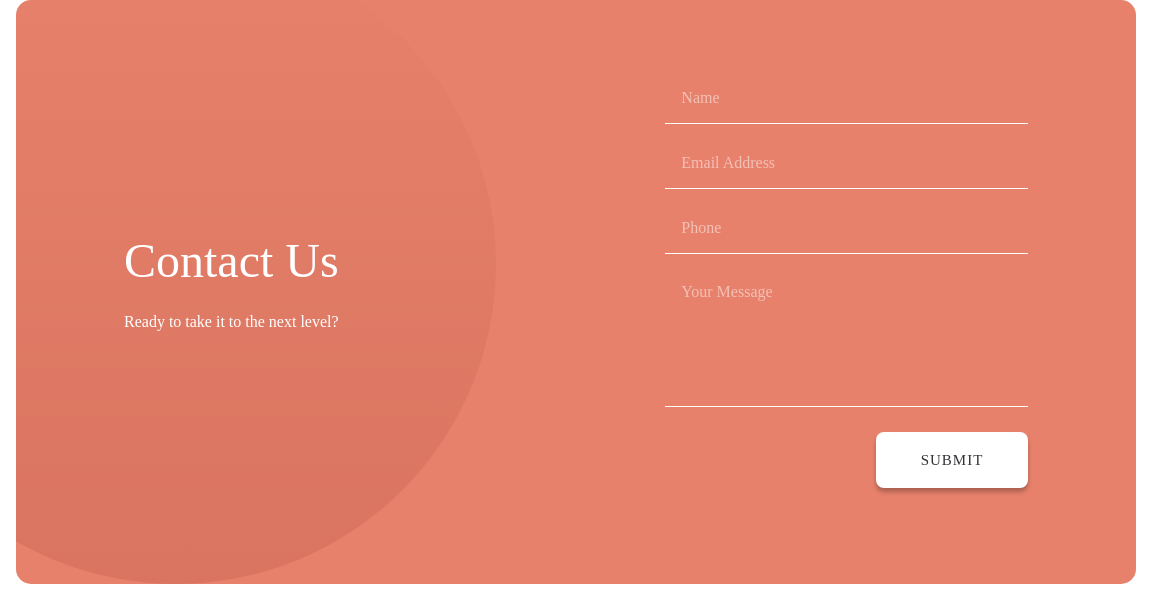
Scenario: ContactForm › ties each error to its field and moves focus to the first one
In the field labelled "Name": coordinates (847, 104) [665,84,1028,124], type "Ada Lovelace"
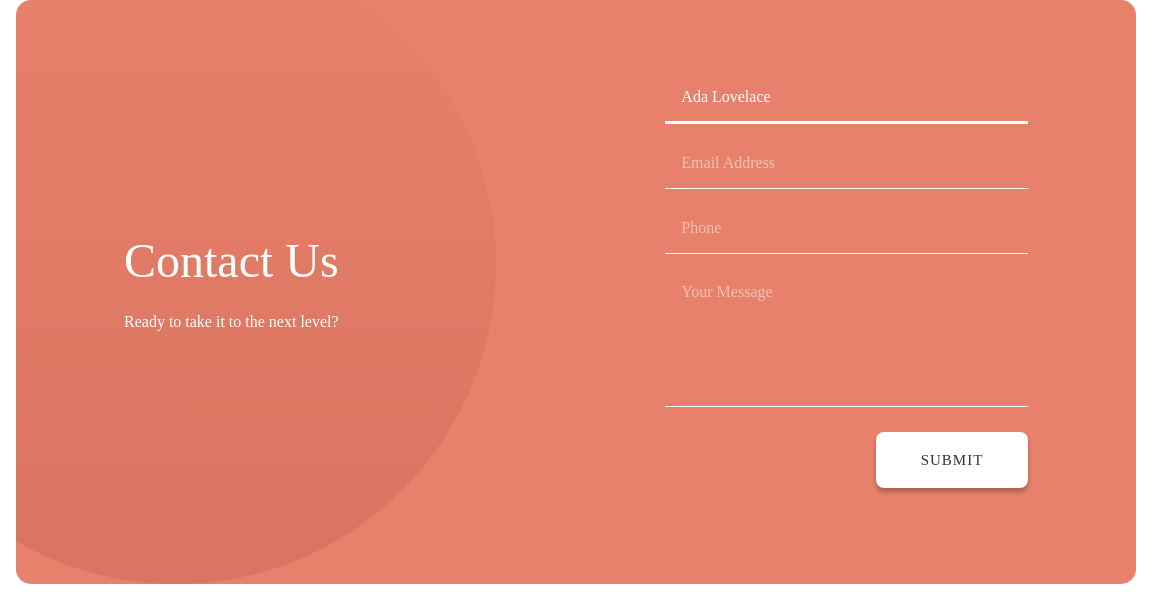
In the field labelled "Email Address": coordinates (847, 169) [665,149,1028,189], type "ada@"
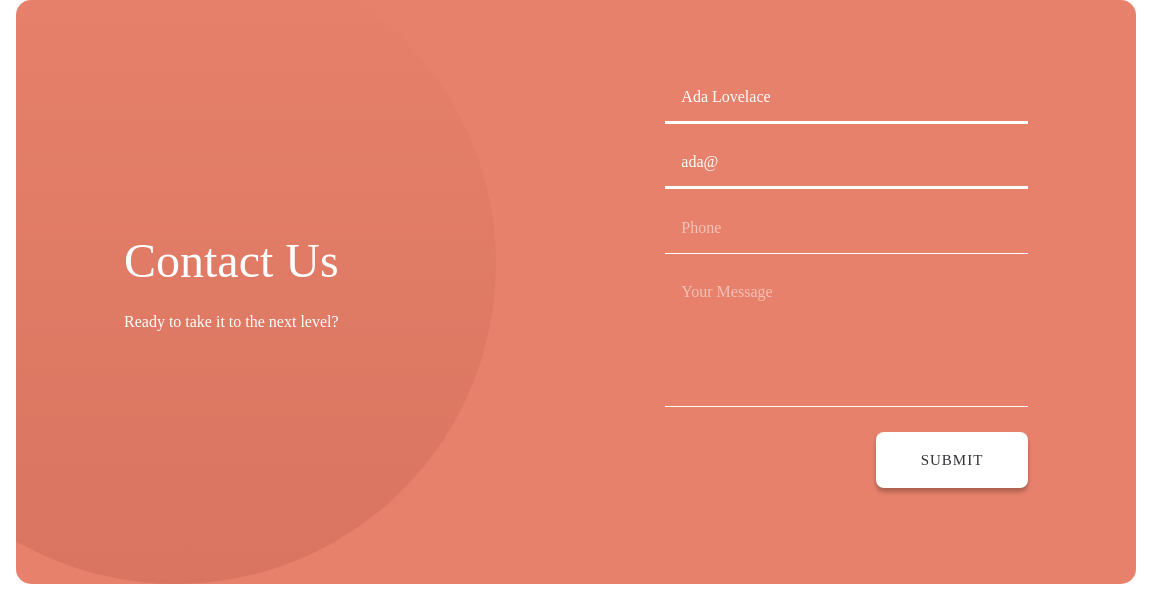
Click the button "submit": coordinates (952, 460) [876,432,1028,488]
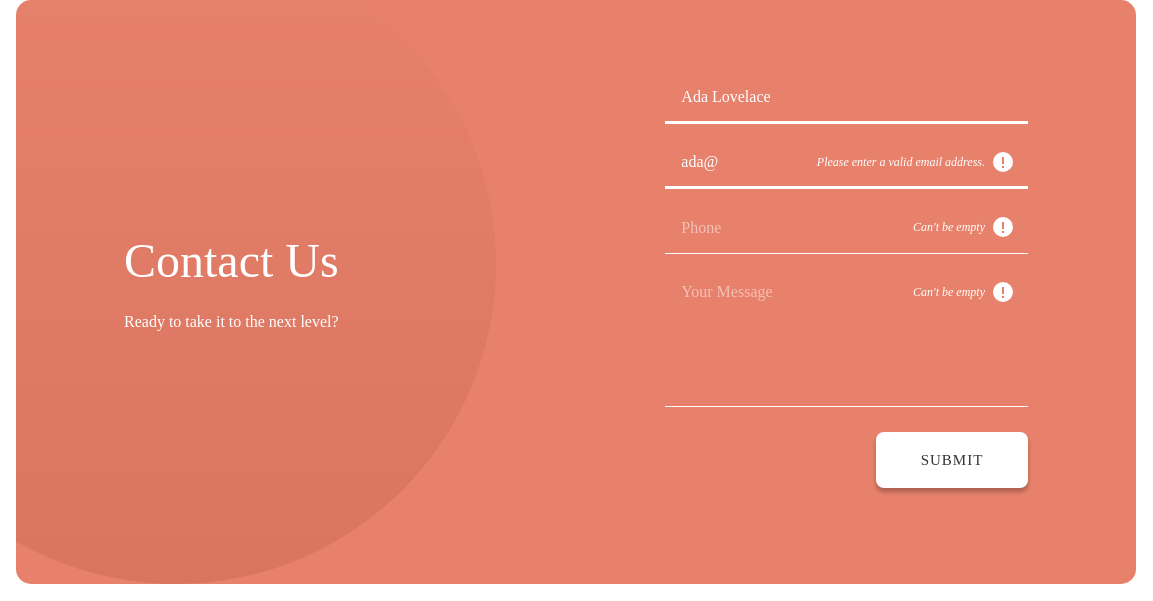
Check: the element showing "Please enter a valid email address." is shown, box [817,149,1013,175]
